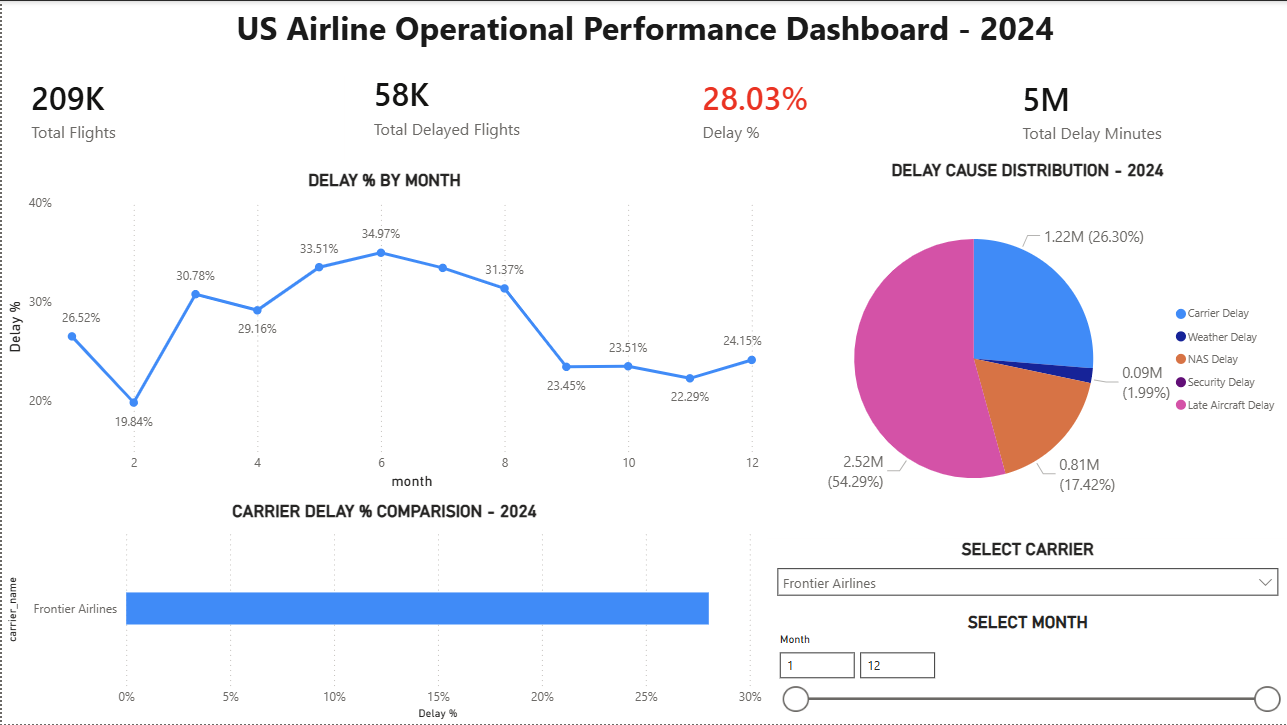

The dashboard page shown, as its layout file describes it:
{"tool":"powerbi","page":{"name":"Page 1","canvas":[1280,720],"ordinal":0},"visuals":[{"type":"cardVisual","fields":{"Data":["airline_project airline_delay_cause.Total Flights"]},"box":[0,57.2,340.8,100.8],"z":0},{"type":"cardVisual","fields":{"Data":["airline_project airline_delay_cause.Total Delayed Flights"]},"box":[340.8,49.8,327.2,108.2],"z":1000},{"type":"cardVisual","fields":{"Data":["airline_project airline_delay_cause.Delay %"]},"box":[668,57.2,318.5,100.8],"z":2000},{"type":"cardVisual","fields":{"Data":["airline_project airline_delay_cause.Total Delay Minutes"]},"box":[986.5,58.5,293.6,99.5],"z":3000},{"type":"lineChart","title":"DELAY % BY MONTH","fields":{"Category":["airline_project airline_delay_cause.month"],"Y":["airline_project airline_delay_cause.Delay %"]},"box":[0,167.9,761.3,323.4],"z":4000},{"type":"pieChart","title":"DELAY CAUSE DISTRIBUTION - 2024","fields":{"Y":["Sum(airline_project airline_delay_cause.carrier_delay)","Sum(airline_project airline_delay_cause.weather_delay)","Sum(airline_project airline_delay_cause.nas_delay)","Sum(airline_project airline_delay_cause.security_delay)","airline_project airline_delay_cause.Late Aircraft Delay"]},"box":[761.3,158,518.7,376.9],"z":5000},{"type":"clusteredBarChart","title":"CARRIER DELAY % COMPARISION - 2024","fields":{"Category":["airline_project airline_delay_cause.carrier_name"],"Y":["airline_project airline_delay_cause.Delay %"]},"box":[0,497.6,761.3,222.7],"z":6000},{"type":"slicer","title":"SELECT CARRIER","fields":{"Values":["airline_project airline_delay_cause.carrier_name"]},"box":[761.2,534.5,518.8,74.1],"z":7000},{"type":"slicer","title":"SELECT MONTH","fields":{"Values":["airline_project airline_delay_cause.month"]},"box":[761.2,608.6,518.8,111.2],"z":8000},{"type":"textbox","box":[0,0,1280,74.6],"z":8001}]}

Visuals, with their boxes in screenshot pixels (x1, y1, x2, y2), scaled from the page's 1280x720 canvas onto the 1287x725 screenshot:
cardVisual - airline_project airline_delay_cause.Total Flights: pyautogui.locateOnScreen(0, 58, 343, 159)
cardVisual - airline_project airline_delay_cause.Total Delayed Flights: pyautogui.locateOnScreen(343, 50, 672, 159)
cardVisual - airline_project airline_delay_cause.Delay %: pyautogui.locateOnScreen(672, 58, 992, 159)
cardVisual - airline_project airline_delay_cause.Total Delay Minutes: pyautogui.locateOnScreen(992, 59, 1286, 159)
"DELAY % BY MONTH" lineChart: pyautogui.locateOnScreen(0, 169, 765, 495)
"DELAY CAUSE DISTRIBUTION - 2024" pieChart: pyautogui.locateOnScreen(765, 159, 1286, 539)
"CARRIER DELAY % COMPARISION - 2024" clusteredBarChart: pyautogui.locateOnScreen(0, 501, 765, 724)
"SELECT CARRIER" slicer: pyautogui.locateOnScreen(765, 538, 1286, 613)
"SELECT MONTH" slicer: pyautogui.locateOnScreen(765, 613, 1286, 724)
textbox: pyautogui.locateOnScreen(0, 0, 1286, 75)
